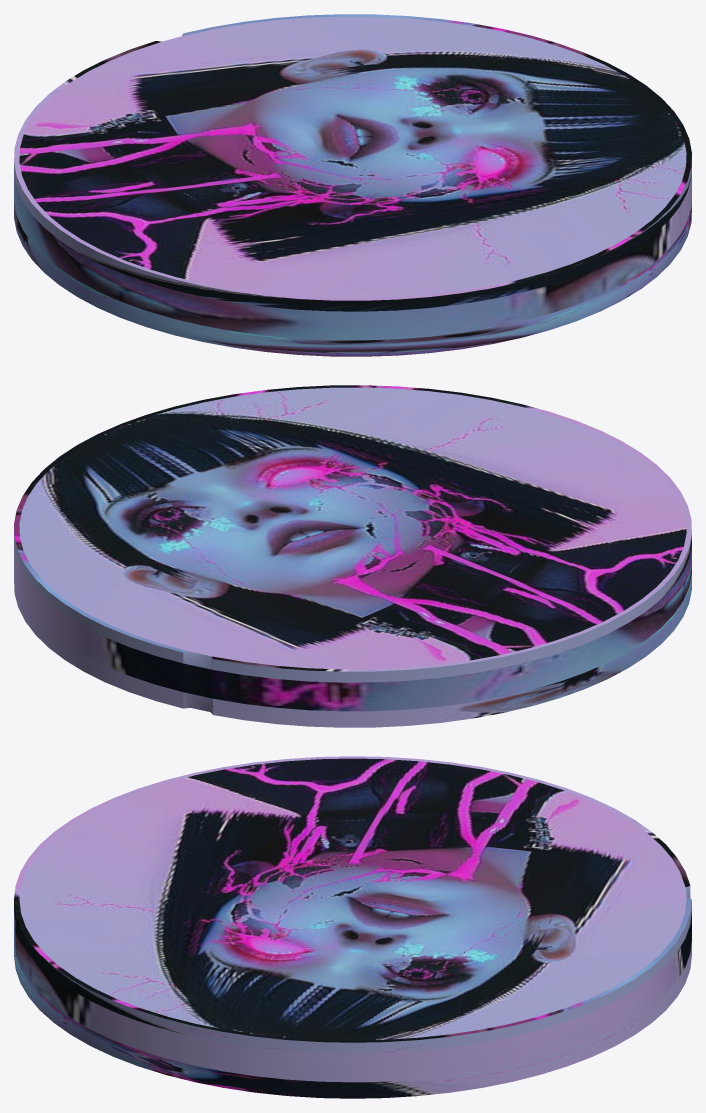
File: DollCoinv2.glb
The picture shows the model from 3 angles, top to bottom: view 1: azimuth 30°, elevation 25°; view 2: azimuth 150°, elevation 25°; view 3: azimuth 270°, elevation 25°; orthographic projection.
Visible parts, largest first — view 1: Cylinder; view 2: Cylinder; view 3: Cylinder.
Part boxes in pixels (x1,y1,x2,y2): Cylinder: (14,14,691,356); Cylinder: (14,385,691,727); Cylinder: (14,756,691,1098).
Bounding box in the file's own units: 2 × 0.1822 × 2.
Materials: 1 (1 with a texture image).
